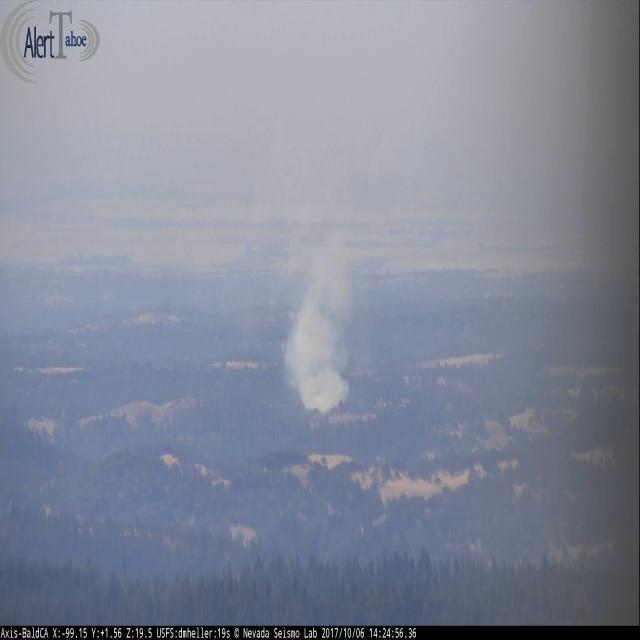smoke: (284, 238, 354, 417)
